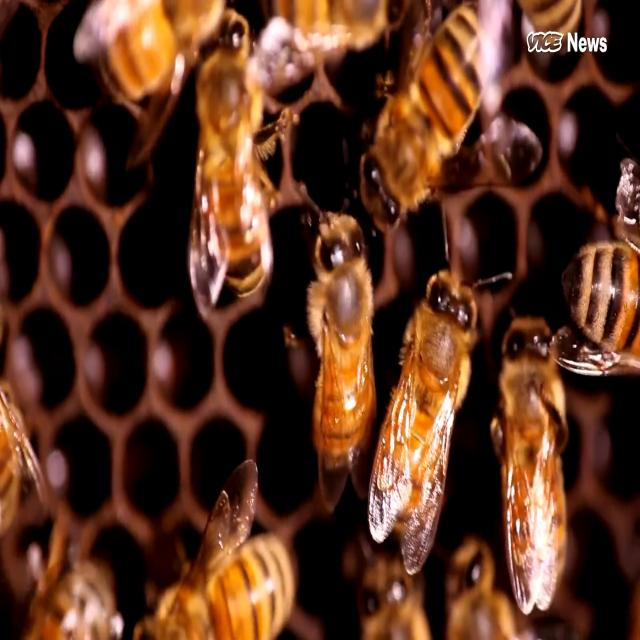Bees: (363, 221, 589, 620)
